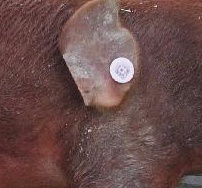text: (103, 50, 147, 91)
